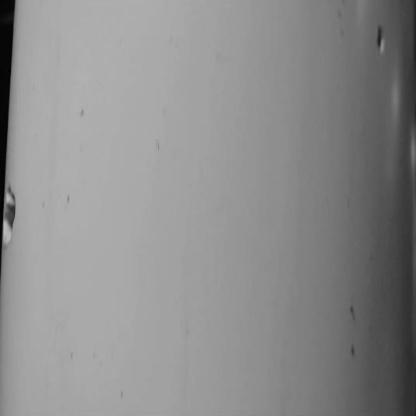kongdong: (1, 178, 41, 269), (367, 19, 398, 66)
